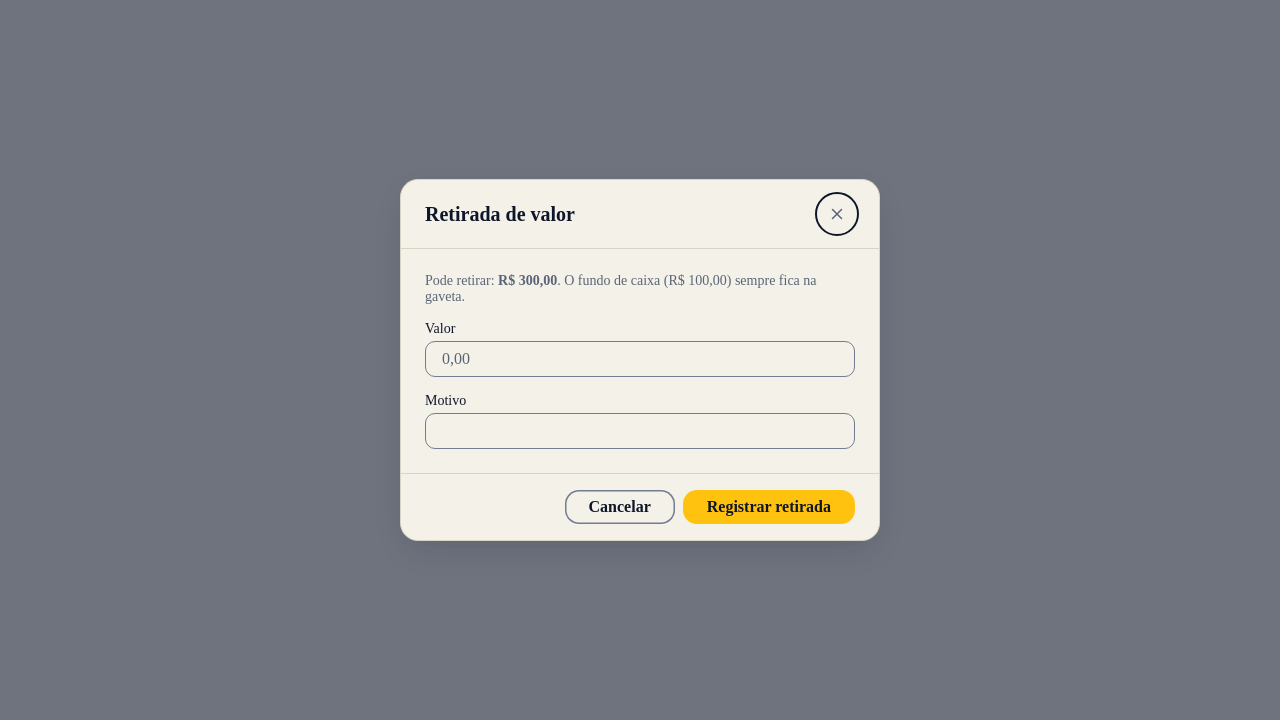
SangriaModal › mostra a mensagem que a API devolveu no erro de regra de negócio
Type "10" into the field labelled "Valor". click: (640, 359)
box: x1=425 y1=341 x2=855 y2=377
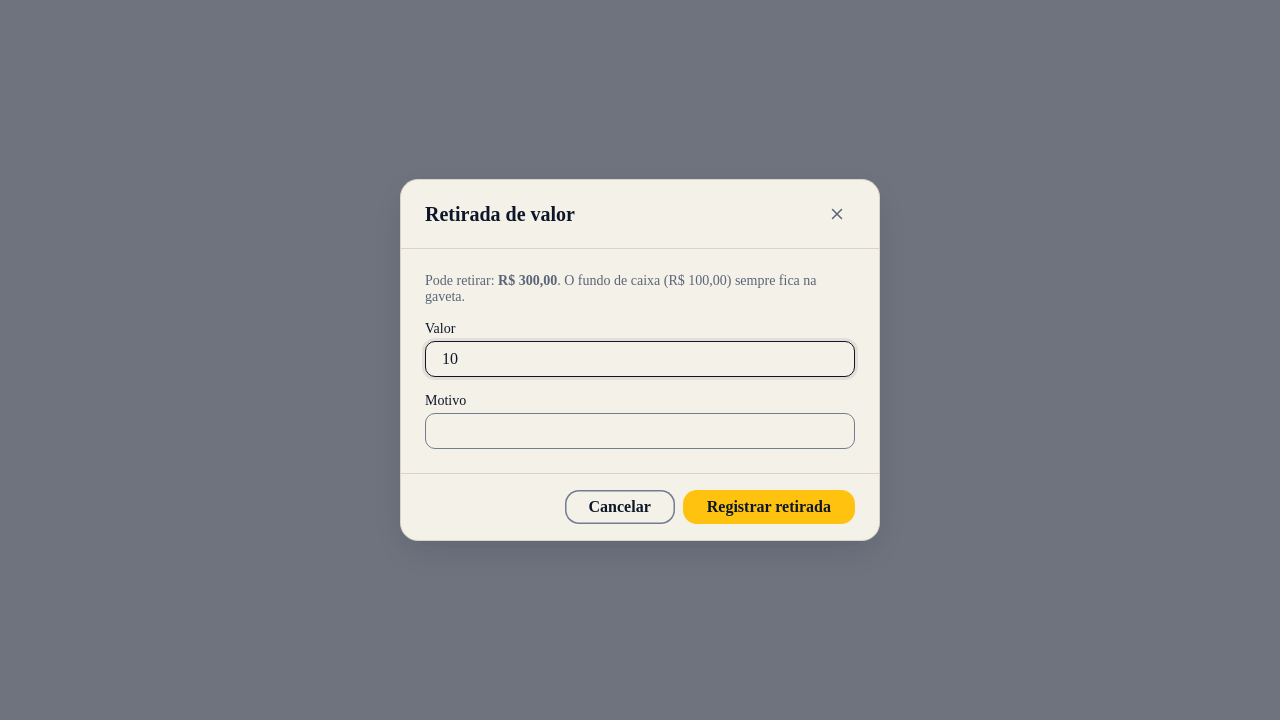
Type "x" into the field labelled "Motivo". click: (640, 431)
box: x1=425 y1=413 x2=855 y2=449
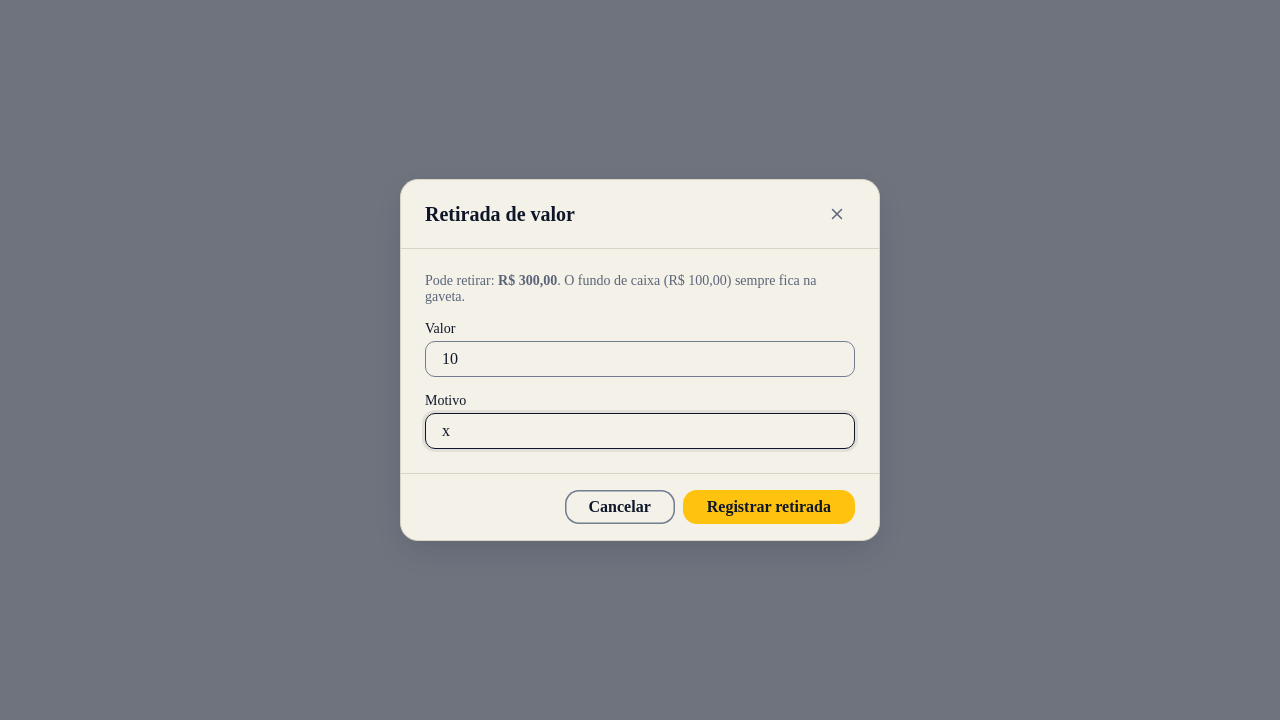
Click the button "Registrar retirada". click: click(769, 507)
box: x1=683 y1=490 x2=855 y2=524
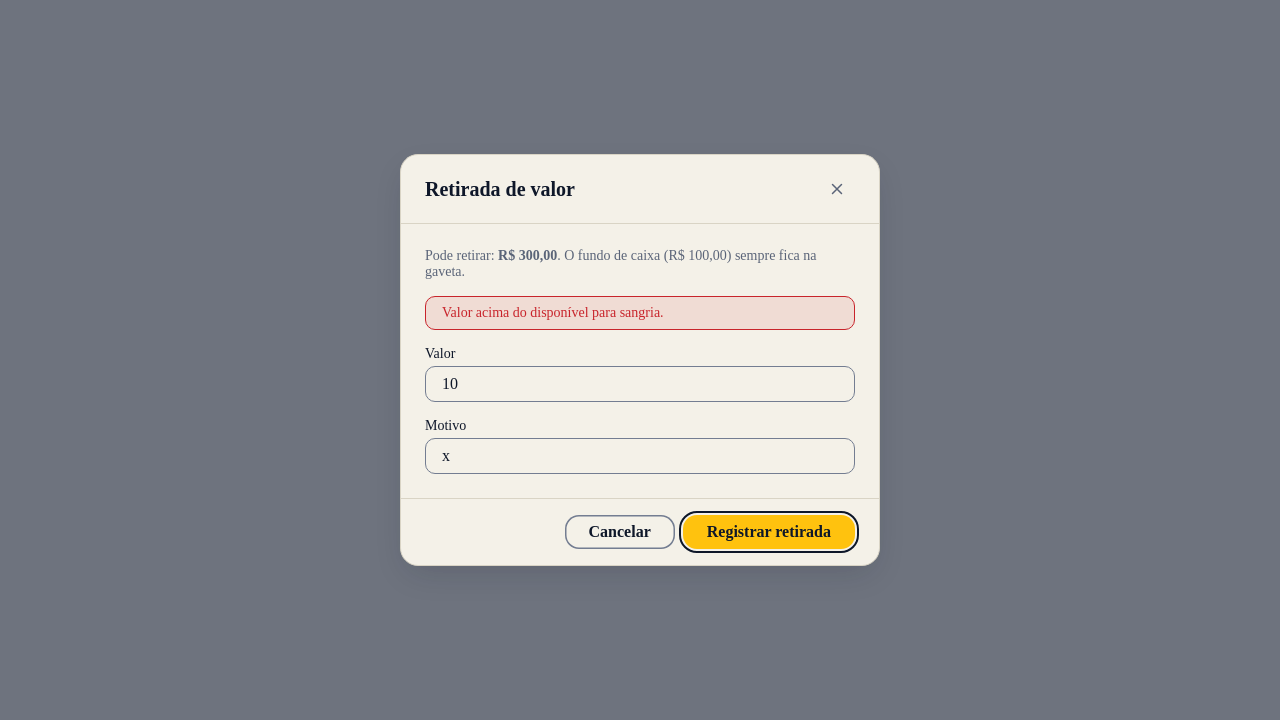
Result: the message reads "Valor acima do disponível para sangria." at x1=442 y1=305 x2=664 y2=320
